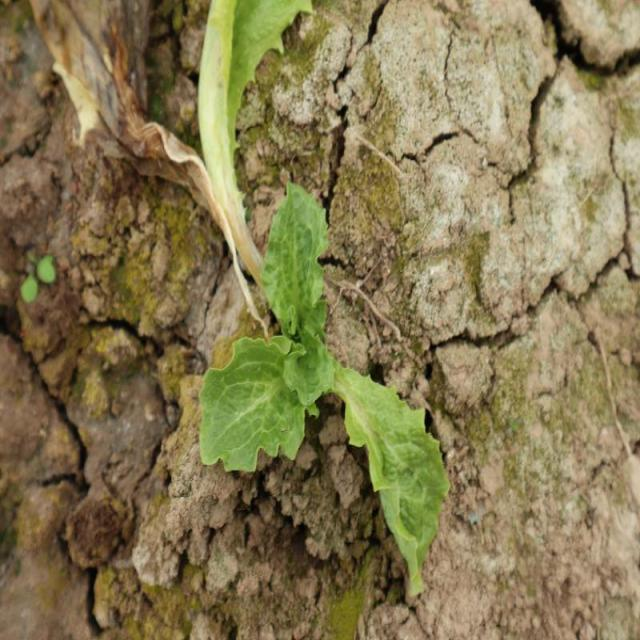crop: (196, 0, 452, 598)
